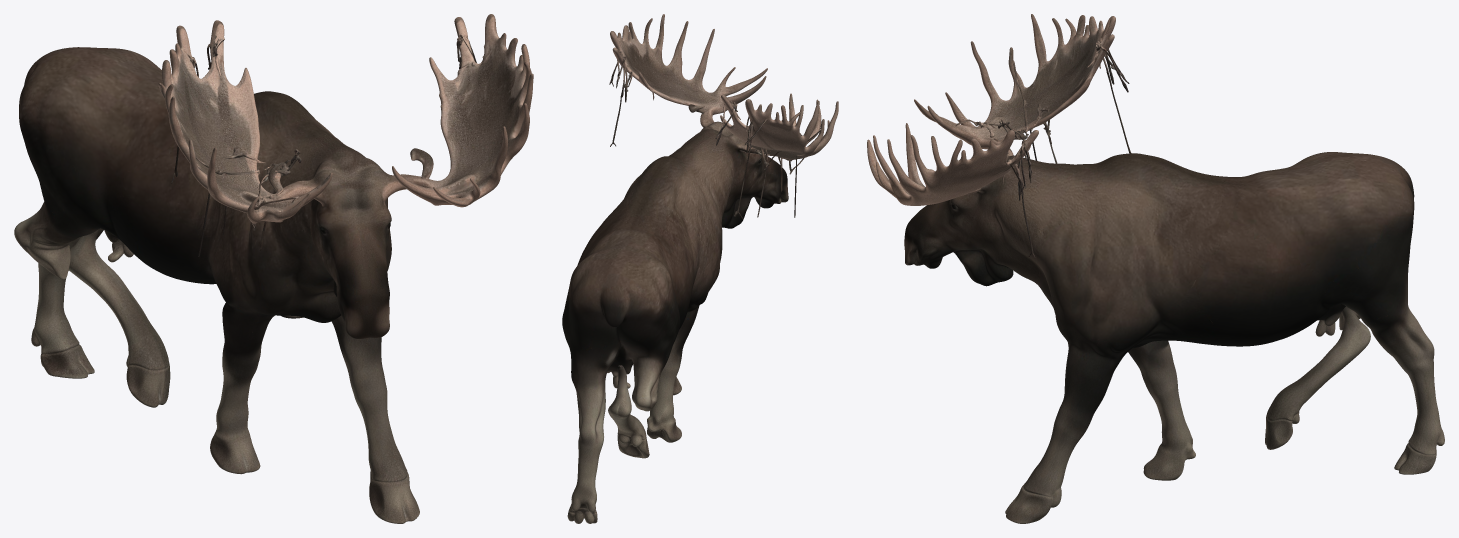
Rendered from meshy-bull-hires.glb.
3 renders of one model, left to right at view 1: azimuth 30°, elevation 25°; view 2: azimuth 150°, elevation 25°; view 3: azimuth 270°, elevation 25°, orthographic. The views are drawn at different scales.
Bounding box in the file's own units: 1.09 × 1.64 × 2.
1 material, 1 textured.
